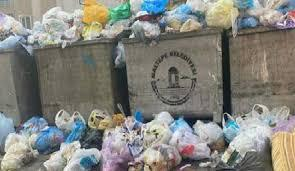Container: (123, 30, 224, 116), (33, 45, 124, 114), (0, 48, 39, 115)
Garbage: (59, 118, 223, 171), (227, 31, 295, 109), (167, 1, 295, 29), (45, 3, 167, 29), (4, 120, 55, 171), (227, 112, 270, 171), (1, 14, 48, 42)
